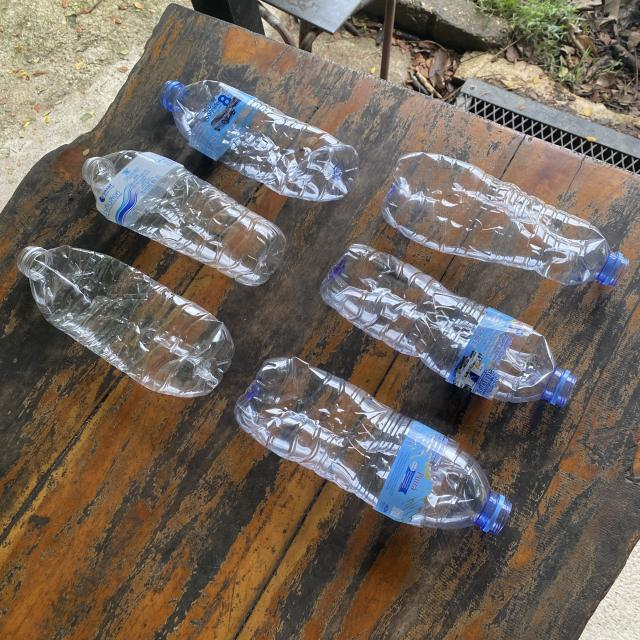plastik: (234, 358, 511, 534), (320, 244, 576, 405), (381, 152, 629, 286), (18, 245, 234, 398), (82, 150, 285, 285), (159, 80, 359, 201)
